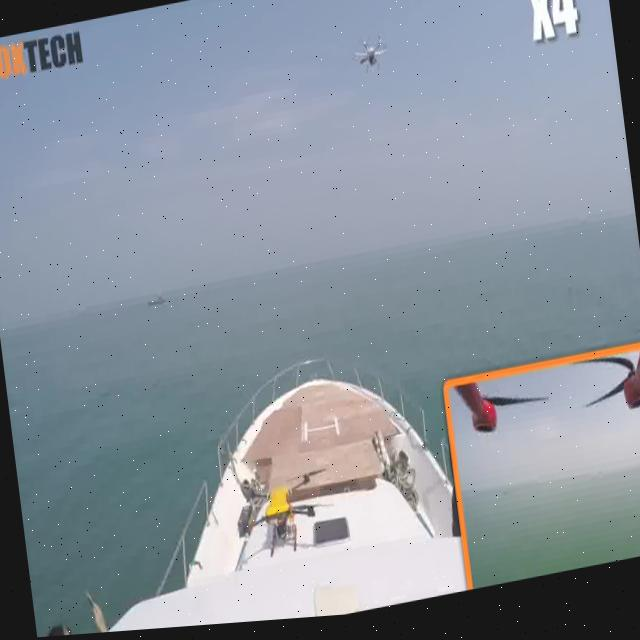drone: (228, 457, 326, 570), (342, 23, 394, 96)
